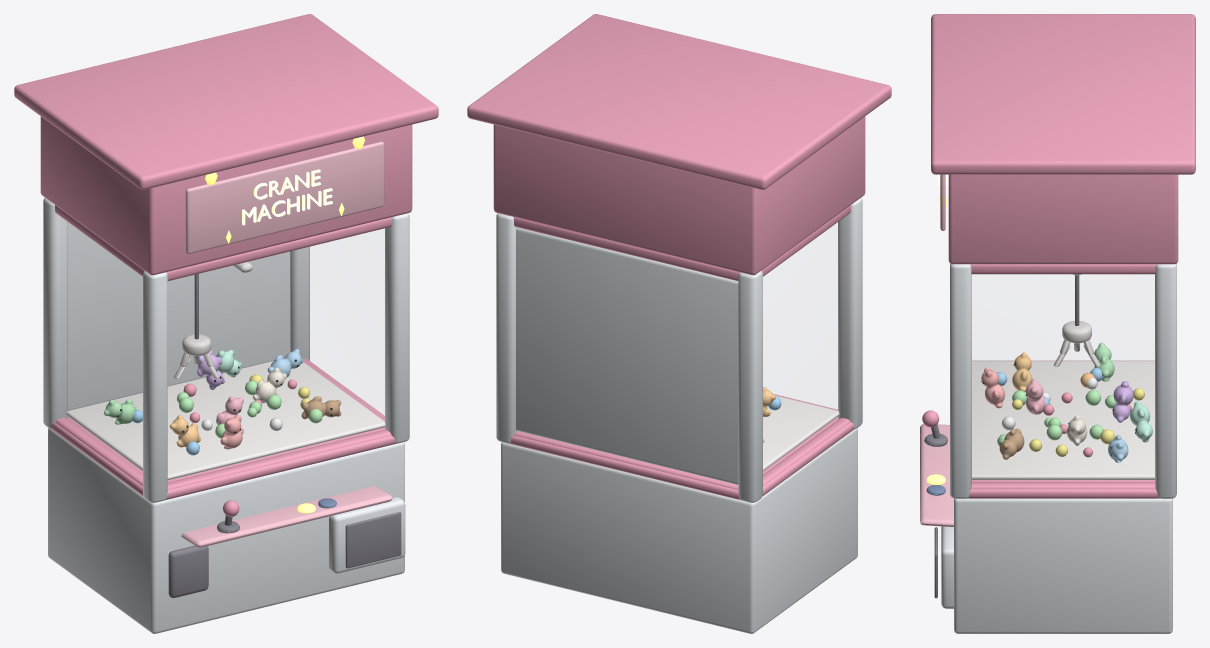
The model's file is crane_machine.glb.
3 views of the same model, side by side, from view 1: azimuth 30°, elevation 25°; view 2: azimuth 150°, elevation 25°; view 3: azimuth 270°, elevation 25° (orthographic). The views are drawn at different scales.
Parts seen in each view (by area): view 1: Crown, Base, BackPanel, Header, Floor, SignPanel, Pillar0, Pillar1, Pillar2, BaseTrim, CtrlPanel, Cube.002 (+12 smaller); view 2: Base, BackPanel, Crown, Header, Pillar2, Pillar0, Pillar3, BaseTrim, Floor, Top_TB, Bot_BB, Bot_BL (+1 smaller); view 3: Crown, Base, Header, Floor, Pillar3, Pillar1, CtrlPanel, BaseTrim, Top_TR, Bot_BR, Cube.001, Plushie_Coral (+9 smaller).
Boxes of the visible parts, x1,y1,x2,y2 form: Crown: (14,14,438,189); Base: (48,428,404,633); BackPanel: (68,222,290,410); Header: (40,116,412,275); Floor: (66,358,385,479); SignPanel: (185,141,384,253); Pillar0: (143,270,167,502); Pillar1: (385,213,409,443); Pillar2: (43,198,67,429); BaseTrim: (51,417,396,502); CtrlPanel: (181,486,392,547); Cube.002: (345,512,401,568); Base: (501,428,857,633); BackPanel: (516,227,738,484); Crown: (467,14,891,189); Header: (493,116,865,275); Pillar2: (738,270,762,502); Pillar0: (838,198,862,429); Pillar3: (496,213,516,443); BaseTrim: (509,417,854,502); Floor: (763,395,839,470); Top_TB: (513,217,739,280); Bot_BB: (514,431,738,489); Bot_BL: (763,418,850,485); Crown: (931,14,1195,174); Base: (954,498,1172,633); Header: (948,174,1178,264); Floor: (972,361,1154,479); Pillar3: (1155,263,1176,498); Pillar1: (950,263,971,498); CtrlPanel: (920,424,953,526); BaseTrim: (967,480,1159,498); Top_TR: (970,264,1156,274); Bot_BR: (971,482,1155,489); Cube.001: (941,526,953,608); Plushie_Coral: (981,367,1005,408).
Size of the model in its own units: 1.3 by 1.96 by 1.01.
